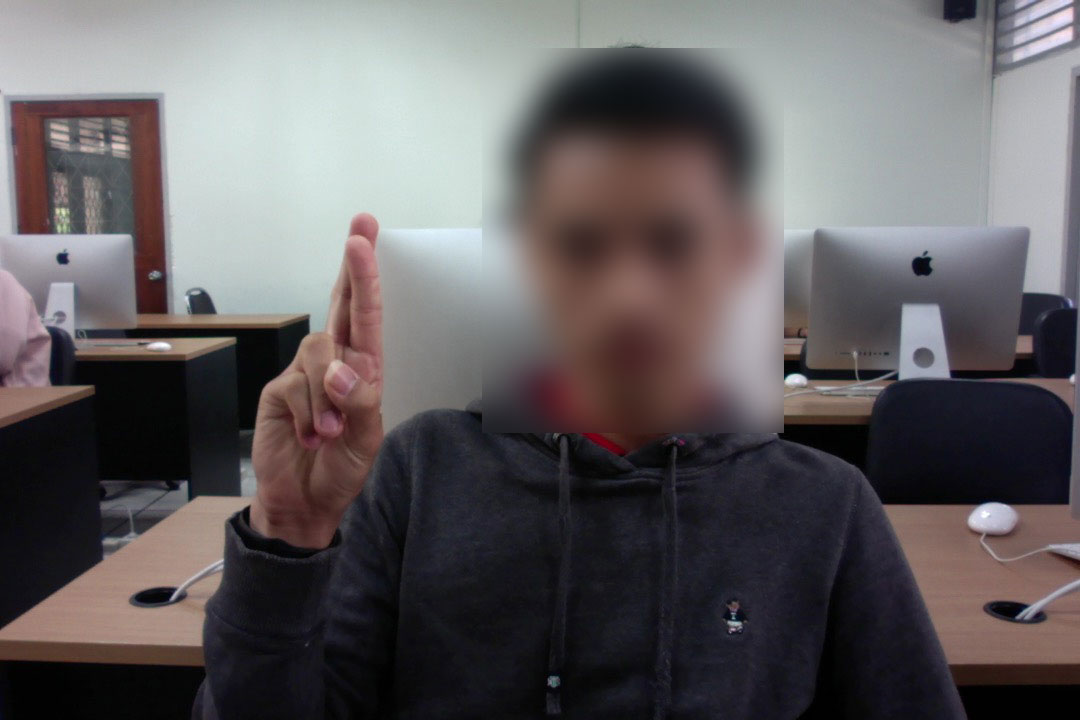rao: (247, 207, 411, 523)
